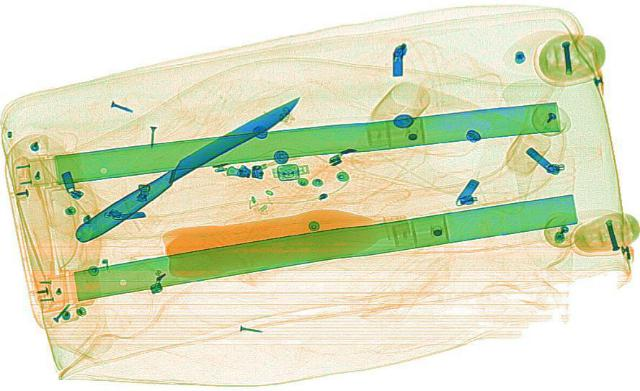Knife: (64, 90, 310, 243)
